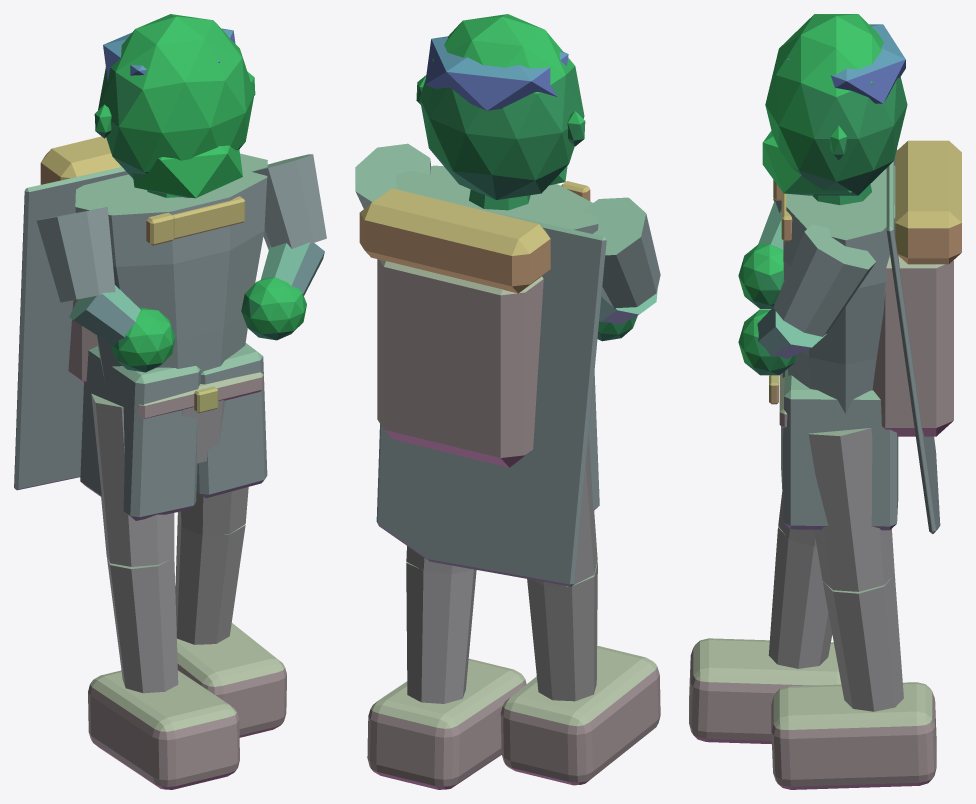
File: npc_traveller_work_v01.glb
The picture shows the model from 3 angles, left to right: view 1: azimuth 30°, elevation 25°; view 2: azimuth 150°, elevation 25°; view 3: azimuth 270°, elevation 25°; orthographic projection. The views are drawn at different scales.
Parts seen in each view (by area): view 1: GEO_npc_traveller_work_v01; view 2: GEO_npc_traveller_work_v01; view 3: GEO_npc_traveller_work_v01.
Boxes of the visible parts, box(x1,y1,x2,y2) form: GEO_npc_traveller_work_v01: box(14, 14, 326, 789); GEO_npc_traveller_work_v01: box(355, 14, 660, 789); GEO_npc_traveller_work_v01: box(689, 14, 961, 789).
Bounding box in the file's own units: 0.8268 × 2.07 × 0.6957.
